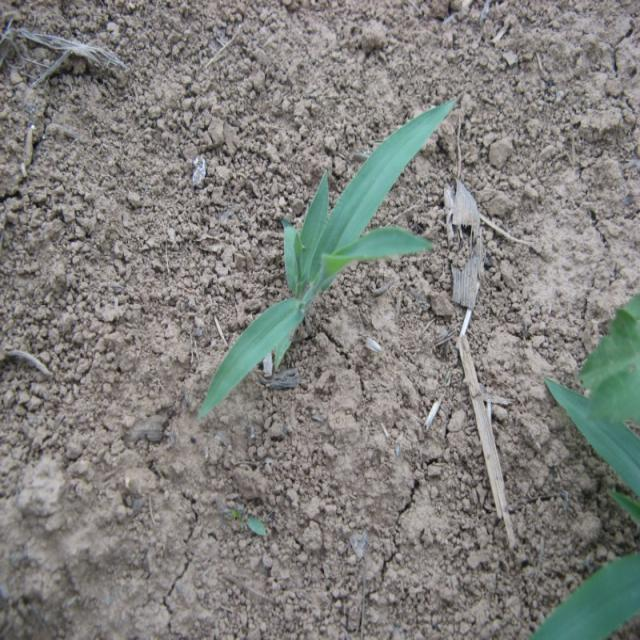bg: (194, 95, 466, 411)
